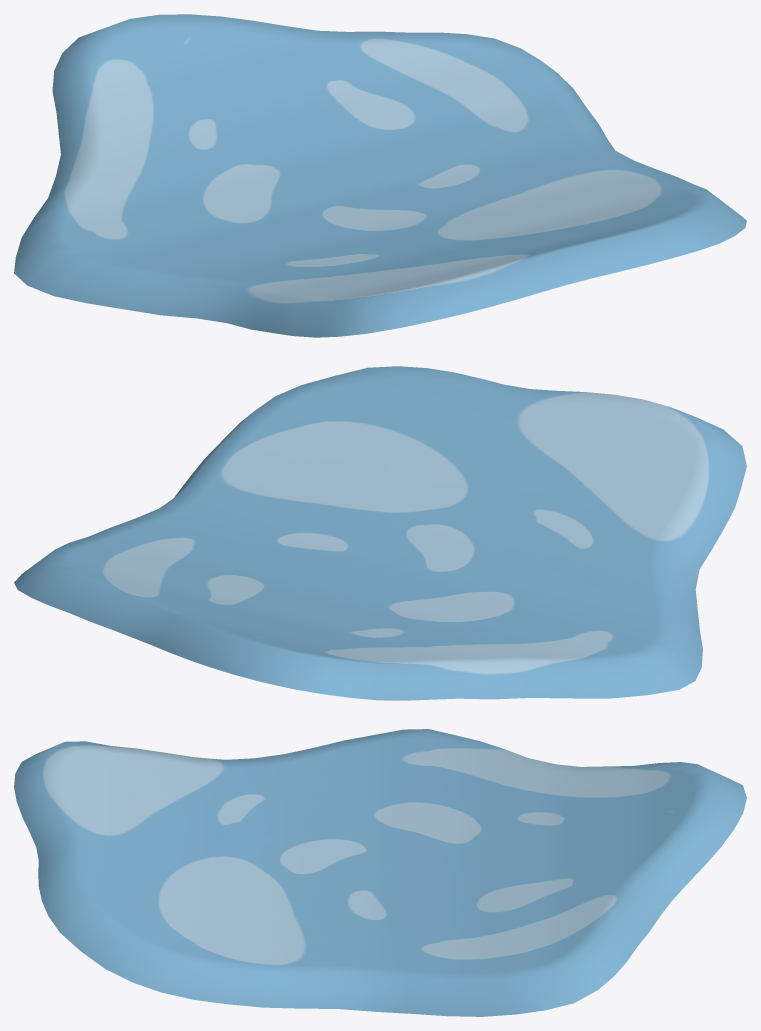
The model's file is Small Water Puddle.fbx.
3 views of the same model, one above another, from view 1: azimuth 30°, elevation 25°; view 2: azimuth 150°, elevation 25°; view 3: azimuth 270°, elevation 25° (orthographic). The views are drawn at different scales.
Parts seen in each view (by area): view 1: Small; view 2: Small; view 3: Small.
Part boxes in pixels (left/top/right/bottom): Small: left=14, top=14, right=746, bottom=337; Small: left=14, top=366, right=746, bottom=700; Small: left=14, top=729, right=746, bottom=1016.
Bounding box in the file's own units: 17.23 × 2.36 × 18.92.
1 material, 1 textured.
